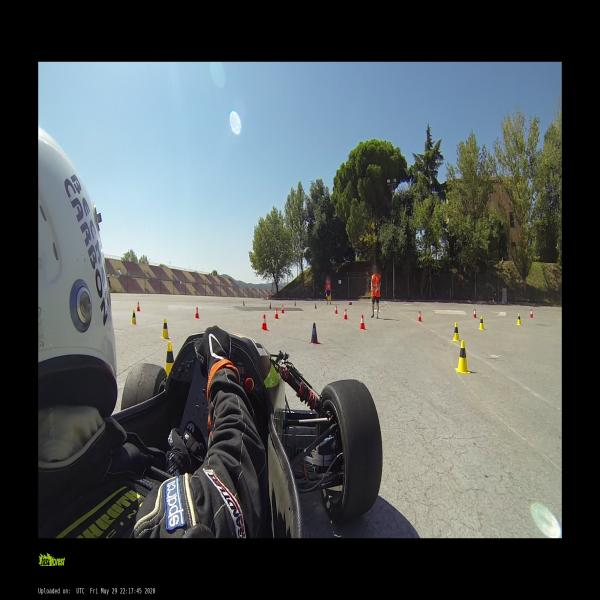blue_cone: (311, 322, 318, 343), (314, 302, 317, 308), (269, 302, 271, 309), (243, 300, 245, 306), (294, 301, 296, 306)
orange_cone: (262, 314, 268, 331), (360, 315, 366, 330), (194, 307, 200, 319), (274, 307, 279, 319), (417, 311, 422, 322), (529, 310, 534, 318), (344, 308, 347, 320), (136, 303, 140, 312), (281, 305, 285, 313), (473, 308, 476, 318), (335, 305, 338, 314)
yellow_cone: (456, 341, 470, 374), (166, 341, 174, 375), (161, 318, 170, 339), (453, 322, 460, 340), (130, 309, 137, 326), (478, 315, 485, 330), (515, 313, 522, 326)
